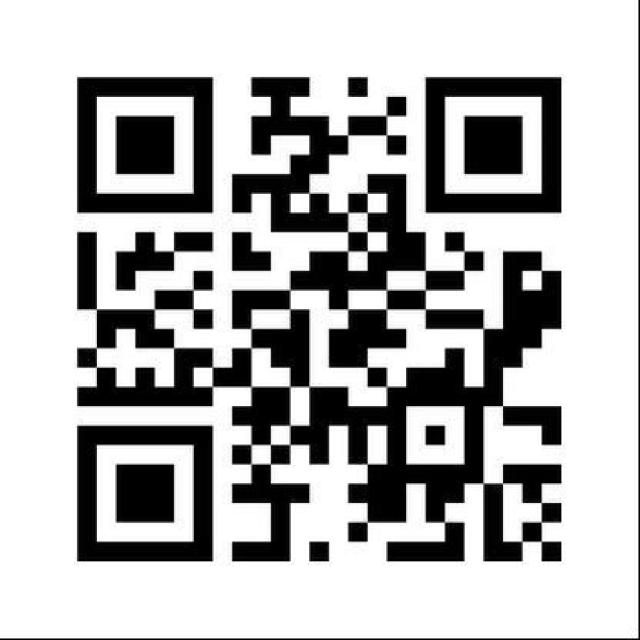QRCode: (66, 61, 574, 572)
